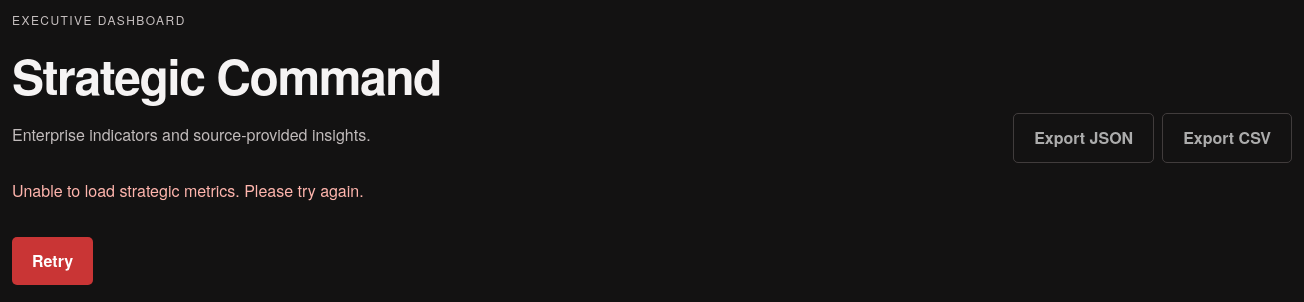
Test case: Strategic dashboard › retries a failed request and displays export failures
The width and height of the screenshot is (1304, 302).
Expected: the message shows "Unable to load", [12,179,364,202]
Click the button "Retry": [53, 261] box [12,237,93,285]
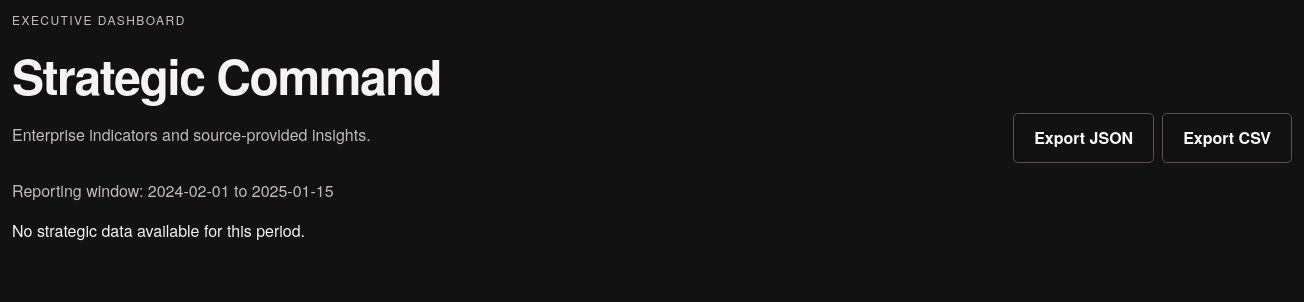
Expected: the text "No strategic data available for this period." is shown, [12,219,305,242]
Click the button "Export CSV": [1227, 138] box [1162,113,1292,163]
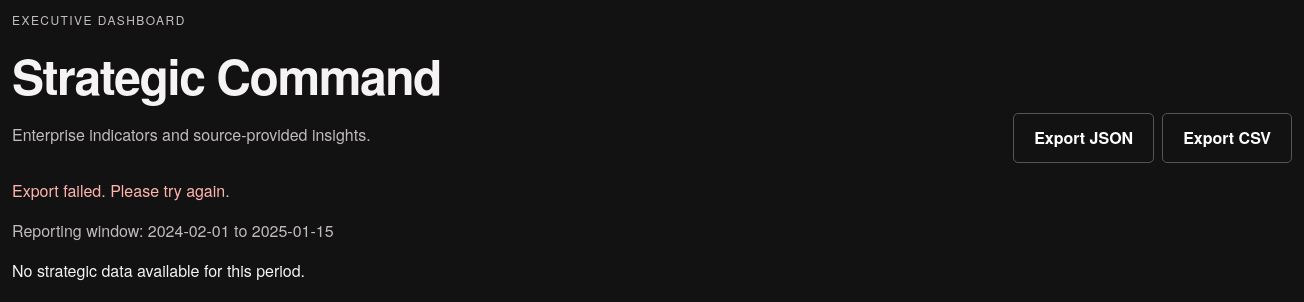
Expected: the message shows "Export failed", [12,179,230,202]
